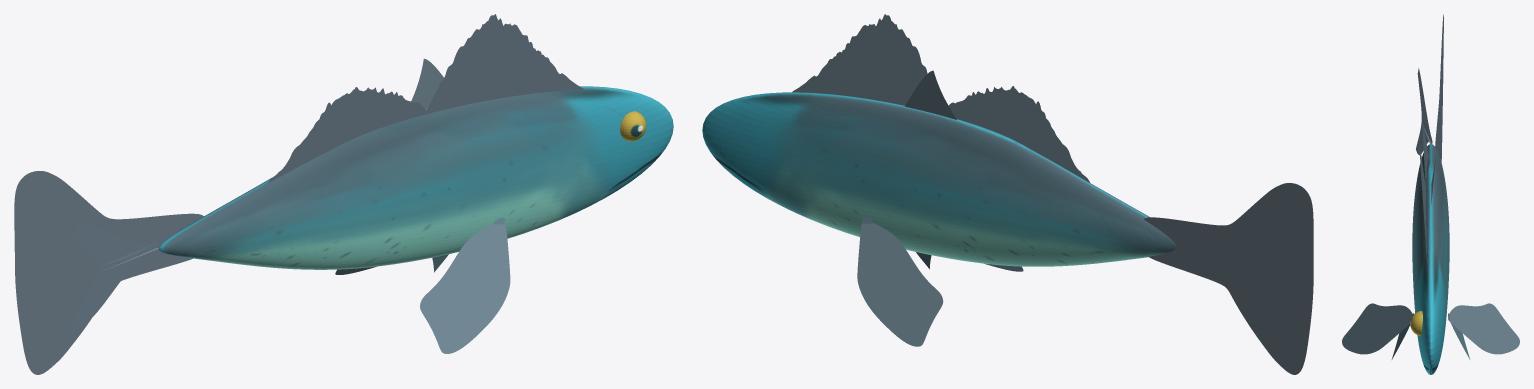
The model's file is simplefish4.glb.
3 renders of one model, left to right at view 1: azimuth 30°, elevation 25°; view 2: azimuth 150°, elevation 25°; view 3: azimuth 270°, elevation 25°, orthographic. The views are drawn at different scales.
Visible parts, largest first — view 1: body, back_fin_2, top_fin_2, side_fin_2, back_fin_1, top_fin_1, Sphere; view 2: body, back_fin_2, top_fin_2, side_fin_2, top_fin_1; view 3: body, side_fin_2, back_fin_2, back_fin_1, top_fin_2, side_fin_1, Sphere.
Part boxes in pixels (x1=…): body: x1=159, y1=86, x2=673, y2=269; back_fin_2: x1=14, y1=171, x2=203, y2=374; top_fin_2: x1=267, y1=14, x2=584, y2=183; side_fin_2: x1=335, y1=222, x2=510, y2=353; back_fin_1: x1=65, y1=223, x2=158, y2=334; top_fin_1: x1=411, y1=58, x2=443, y2=108; Sphere: x1=620, y1=111, x2=646, y2=141; body: x1=702, y1=92, x2=1175, y2=266; back_fin_2: x1=1144, y1=183, x2=1313, y2=374; top_fin_2: x1=792, y1=14, x2=1089, y2=182; side_fin_2: x1=857, y1=222, x2=1023, y2=346; top_fin_1: x1=905, y1=70, x2=956, y2=119; body: x1=1412, y1=144, x2=1449, y2=374; side_fin_2: x1=1342, y1=303, x2=1519, y2=354; back_fin_2: x1=1435, y1=14, x2=1443, y2=161; back_fin_1: x1=1416, y1=68, x2=1432, y2=155; top_fin_2: x1=1419, y1=124, x2=1428, y2=263; side_fin_1: x1=1391, y1=313, x2=1470, y2=359; Sphere: x1=1410, y1=311, x2=1422, y2=335.
Bounding box in the file's own units: 86.07 × 35.77 × 24.68.
Materials: 8 (2 with a texture image).
